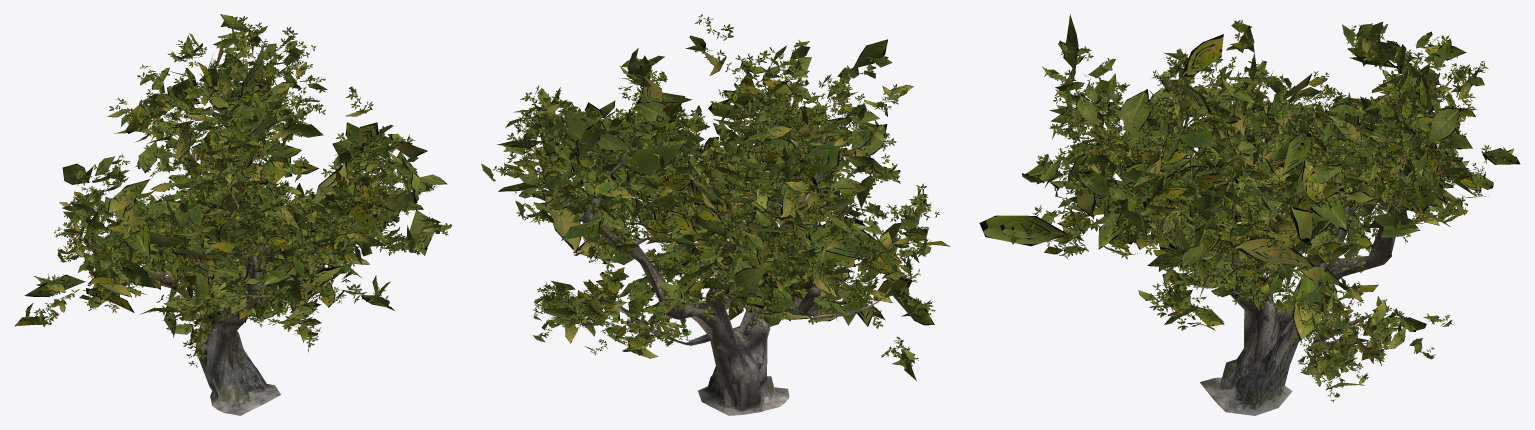
Rendered from original-canopy-lod-1k.glb.
3 views of the same model, side by side, from view 1: azimuth 30°, elevation 25°; view 2: azimuth 150°, elevation 25°; view 3: azimuth 270°, elevation 25° (orthographic). The views are drawn at different scales.
Visible parts, largest first — view 1: canopy_original_near, canopy_original_mid, canopy_original_far, canopy_original_distant; view 2: canopy_original_near, canopy_original_mid, canopy_original_far, canopy_original_distant; view 3: canopy_original_near, canopy_original_mid, canopy_original_far, canopy_original_distant.
Boxes of the visible parts, box(x1,y1,x2,y2) form: canopy_original_near: box(25, 16, 451, 415); canopy_original_mid: box(21, 16, 451, 410); canopy_original_far: box(15, 14, 447, 412); canopy_original_distant: box(24, 37, 434, 386); canopy_original_near: box(485, 14, 939, 415); canopy_original_mid: box(481, 38, 935, 414); canopy_original_far: box(497, 35, 950, 408); canopy_original_distant: box(498, 39, 934, 404); canopy_original_near: box(1012, 20, 1507, 415); canopy_original_mid: box(1011, 22, 1513, 409); canopy_original_far: box(1000, 22, 1511, 397); canopy_original_distant: box(979, 14, 1520, 388).
Bounding box in the file's own units: 6.08 × 4.94 × 5.99.
3 materials, 3 textured.
